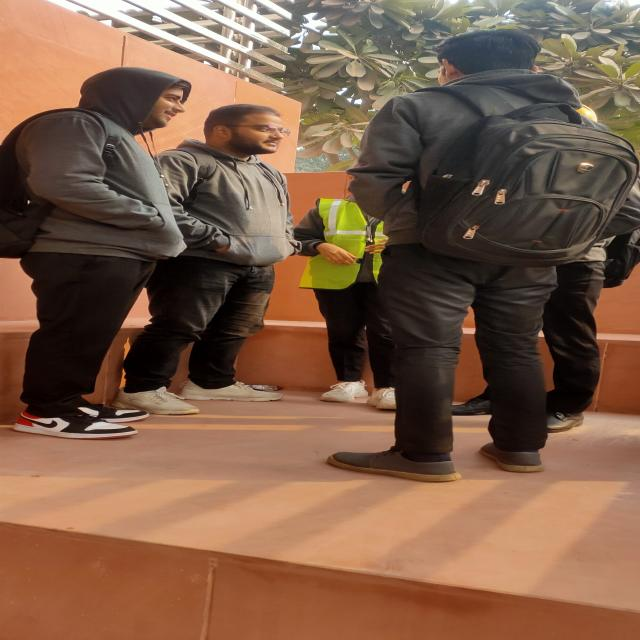unsafe: (352, 29, 640, 483), (8, 64, 190, 440), (168, 105, 293, 415)
